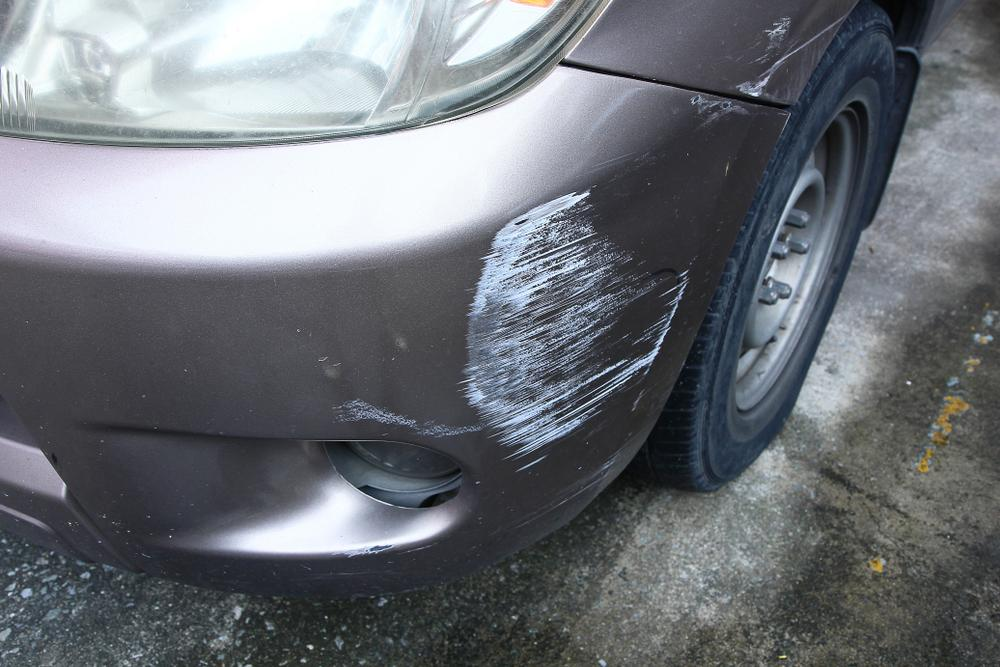scratch: (337, 181, 692, 467), (736, 9, 846, 98), (681, 91, 745, 127), (333, 541, 401, 560)
